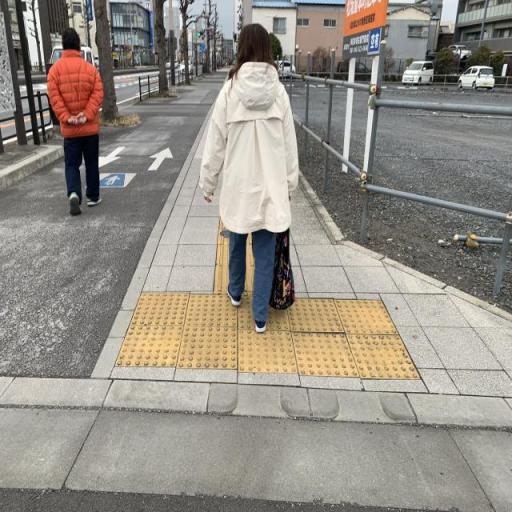dot: (345, 334, 421, 379), (291, 331, 360, 377), (113, 324, 184, 367), (176, 327, 237, 369), (334, 300, 400, 335), (130, 292, 190, 326)
